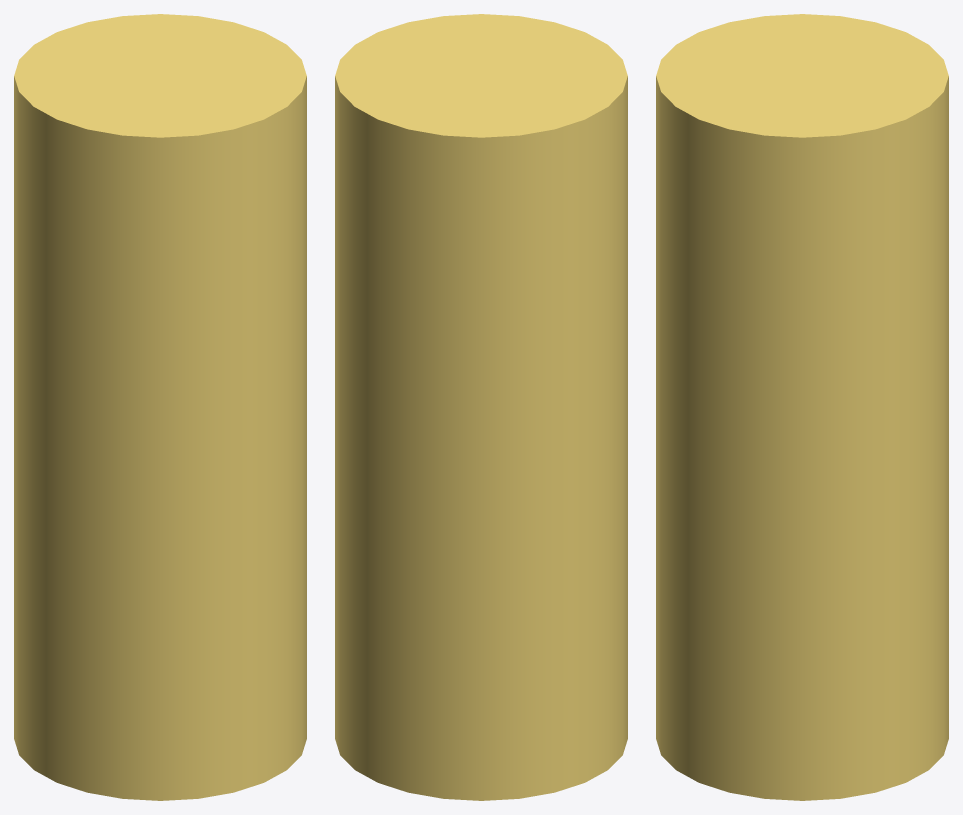
Rendered from foamBulletA.glb.
3 views of the same model, side by side, from view 1: azimuth 30°, elevation 25°; view 2: azimuth 150°, elevation 25°; view 3: azimuth 270°, elevation 25° (orthographic).
Visible parts, largest first — view 1: foamBulletA; view 2: foamBulletA; view 3: foamBulletA.
Part boxes in pixels (<box>): foamBulletA: <box>14,14,306,800</box>; foamBulletA: <box>335,14,627,800</box>; foamBulletA: <box>656,14,948,800</box>.
Size of the model in its own units: 0.02 by 0.05 by 0.02.
